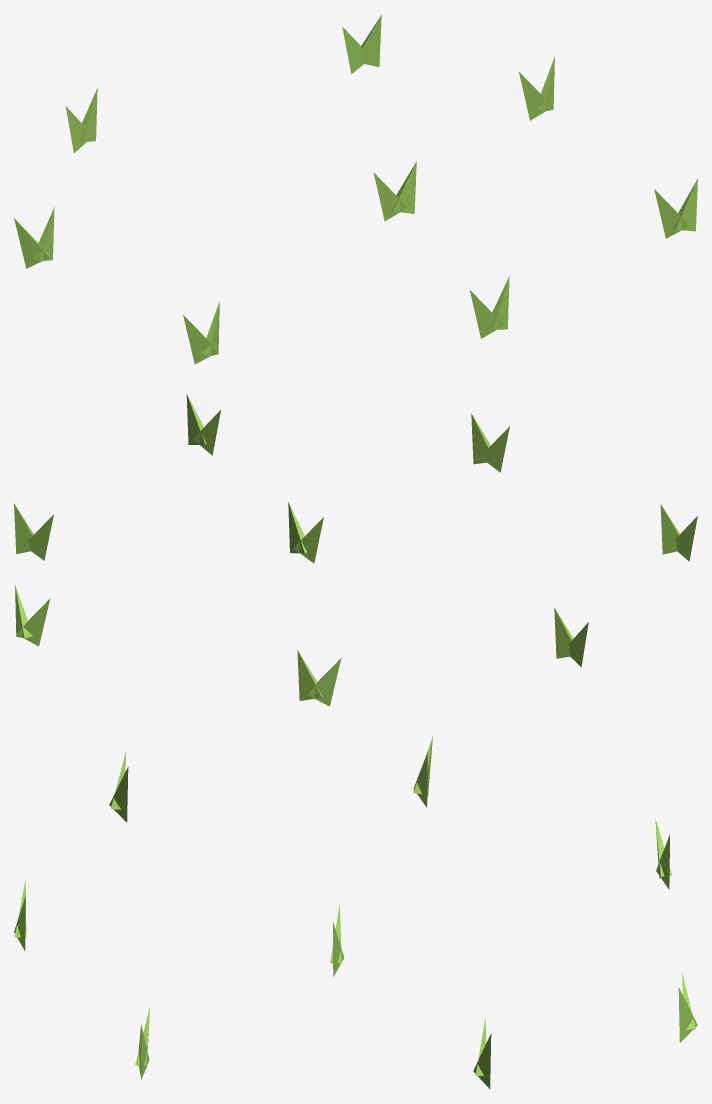
The model's file is flower-1.glb.
3 views of the same model, one above another, from view 1: azimuth 30°, elevation 25°; view 2: azimuth 150°, elevation 25°; view 3: azimuth 270°, elevation 25° (orthographic). The views are drawn at different scales.
Visible parts, largest first — view 1: flower-1; view 2: flower-1; view 3: flower-1.
Part boxes in pixels (left/top/right/bottom): flower-1: left=14, top=15, right=697, bottom=364; flower-1: left=14, top=394, right=697, bottom=706; flower-1: left=14, top=736, right=697, bottom=1089.
Bounding box in the file's own units: 0.5886 × 0.055 × 0.5641.
1 material, 1 textured.
